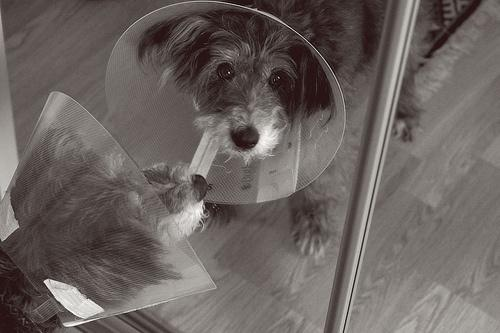dog: (139, 2, 425, 258), (2, 129, 207, 333)
